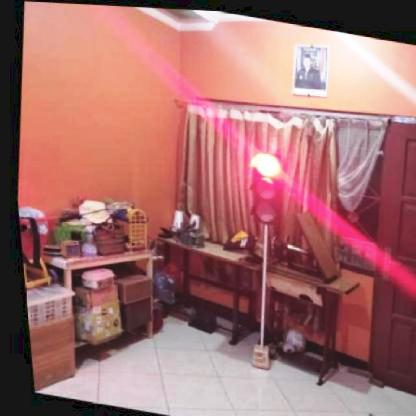Traffic Light -Red-: (241, 146, 282, 222)
